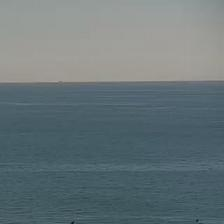surfer: (70, 220, 76, 224), (194, 218, 200, 222)
